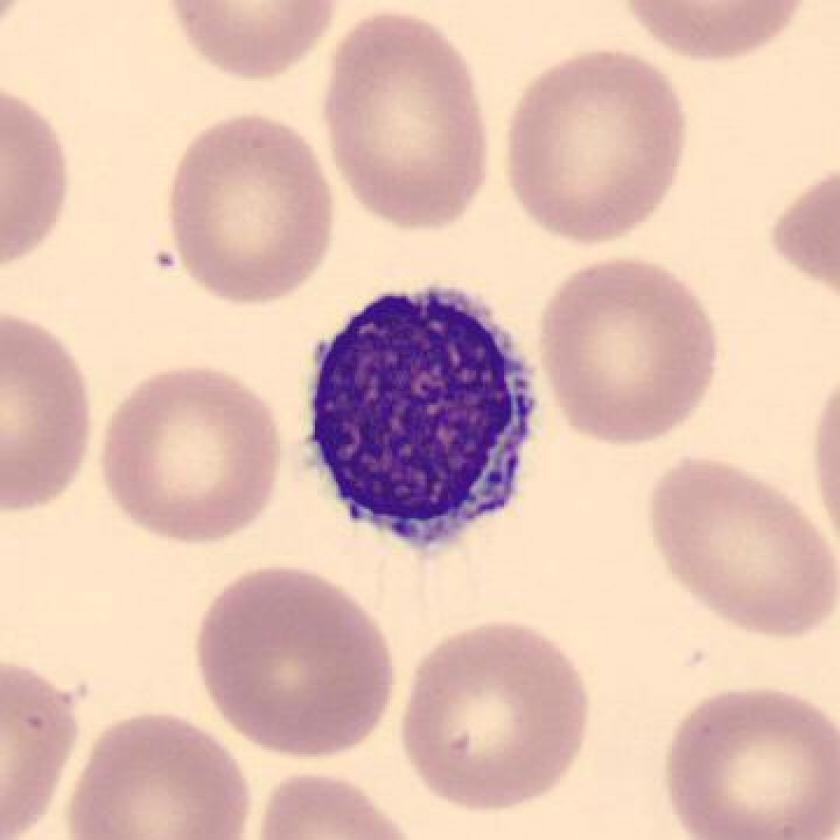lymphocyte: (297, 284, 552, 571)
